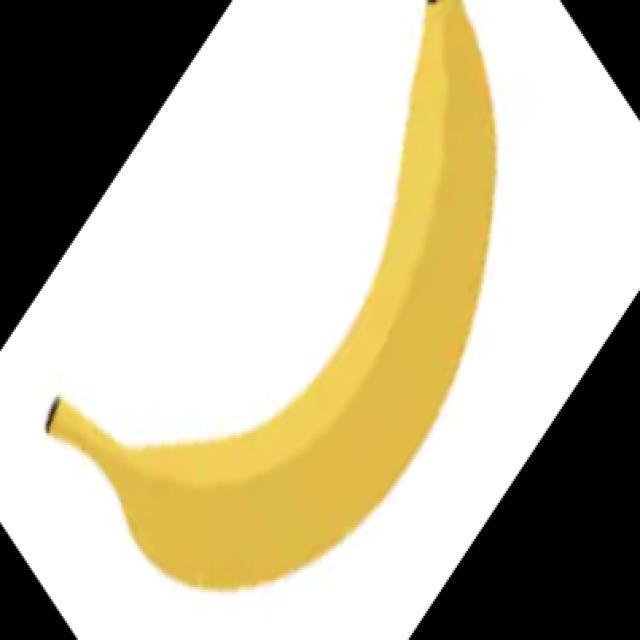Banana: (43, 0, 497, 591)
